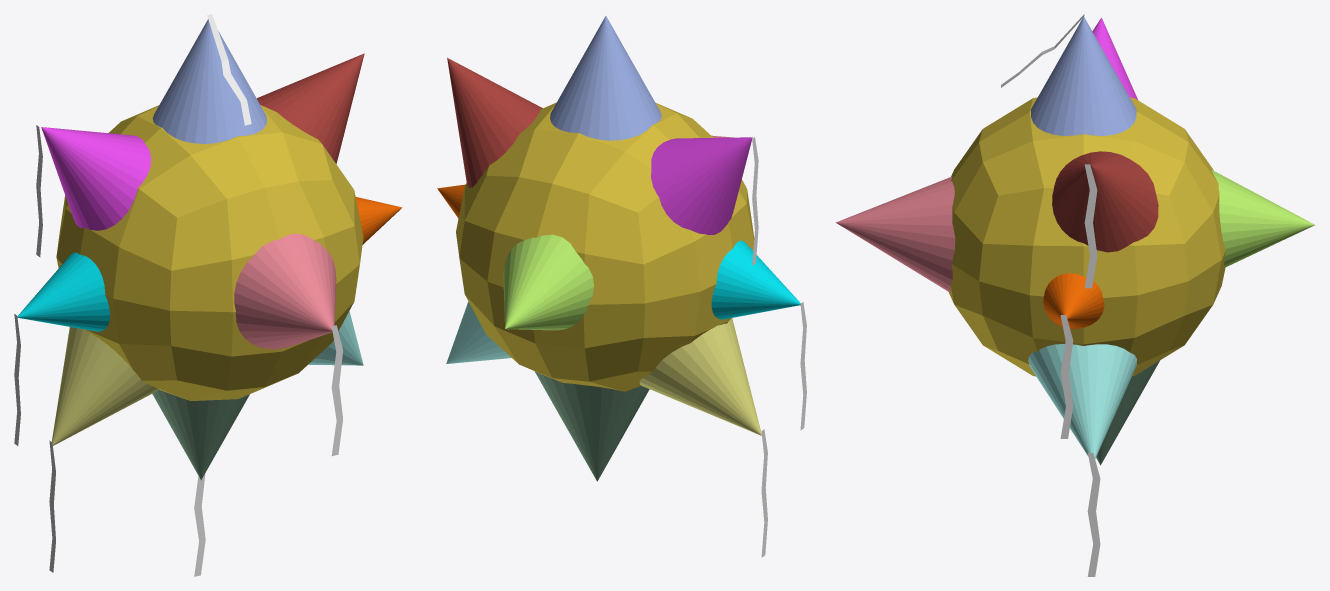
File: piñata.glb
3 renders of one model, left to right at view 1: azimuth 30°, elevation 25°; view 2: azimuth 150°, elevation 25°; view 3: azimuth 270°, elevation 25°, orthographic. The views are drawn at different scales.
Visible parts, largest first — view 1: Quadsphere, Cone.006, Cone.001, Cone, Cone.004, Cone.002, Cone.008, Cone.005, Cone.003, Cone.009, Plane.001, Plane.009 (+4 smaller); view 2: Quadsphere, Cone, Cone.001, Cone.007, Cone.004, Cone.002, Cone.005, Cone.008, Cone.003, Plane.006, Plane.007, Plane.008 (+1 smaller); view 3: Quadsphere, Cone.002, Cone, Cone.006, Cone.003, Cone.007, Cone.009, Cone.005, Plane.005, Plane.003, Plane.004, Cone.001.
Part boxes in pixels (x1,y1,x2,y2): Quadsphere: [56, 105, 363, 400]; Cone.006: [234, 234, 336, 349]; Cone.001: [41, 127, 151, 230]; Cone: [152, 19, 267, 143]; Cone.004: [51, 327, 159, 445]; Cone.002: [257, 53, 364, 163]; Cone.008: [17, 252, 109, 331]; Cone.005: [152, 390, 249, 479]; Cone.003: [308, 311, 363, 365]; Cone.009: [355, 197, 402, 244]; Plane.001: [331, 325, 342, 455]; Plane.009: [207, 14, 251, 125]; Quadsphere: [456, 102, 754, 391]; Cone: [550, 16, 661, 140]; Cone.001: [651, 137, 752, 234]; Cone.007: [503, 234, 594, 330]; Cone.004: [639, 318, 761, 435]; Cone.002: [447, 57, 542, 187]; Cone.005: [534, 371, 649, 481]; Cone.008: [711, 240, 800, 319]; Cone.003: [446, 301, 511, 363]; Plane.006: [752, 137, 758, 265]; Plane.007: [761, 429, 767, 557]; Plane.008: [800, 302, 806, 430]; Quadsphere: [948, 97, 1225, 376]; Cone.002: [1052, 151, 1158, 252]; Cone: [1031, 17, 1136, 135]; Cone.006: [835, 176, 955, 292]; Cone.003: [1028, 344, 1137, 459]; Cone.007: [1212, 170, 1314, 267]; Cone.009: [1043, 273, 1104, 328]; Cone.005: [1096, 360, 1159, 465]; Plane.005: [1084, 164, 1097, 288]; Plane.003: [1060, 315, 1073, 438]; Plane.004: [1087, 453, 1100, 576]; Cone.001: [1092, 17, 1137, 99].
Bounding box in the file's own units: 2.63 × 3.75 × 3.02.
